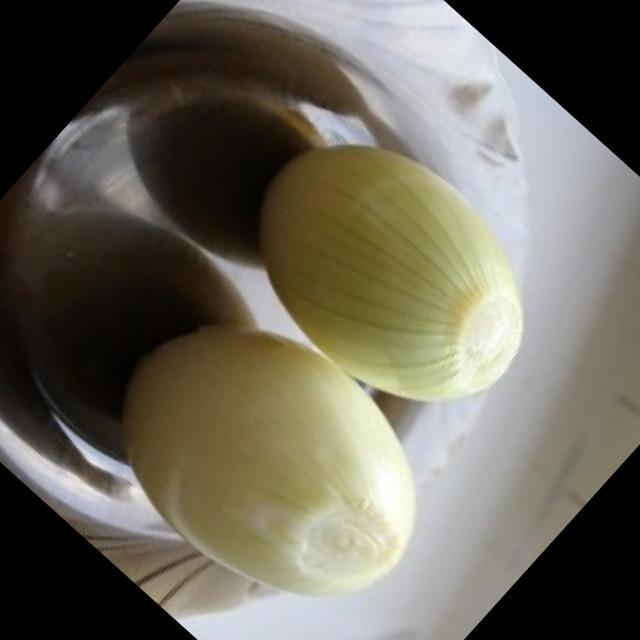Onion: (125, 328, 414, 595), (264, 145, 521, 400)
